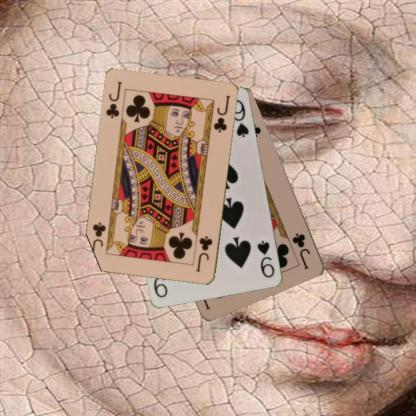9s: (255, 238, 276, 279)
Jc: (289, 231, 312, 271), (193, 233, 214, 274), (103, 79, 124, 120)
